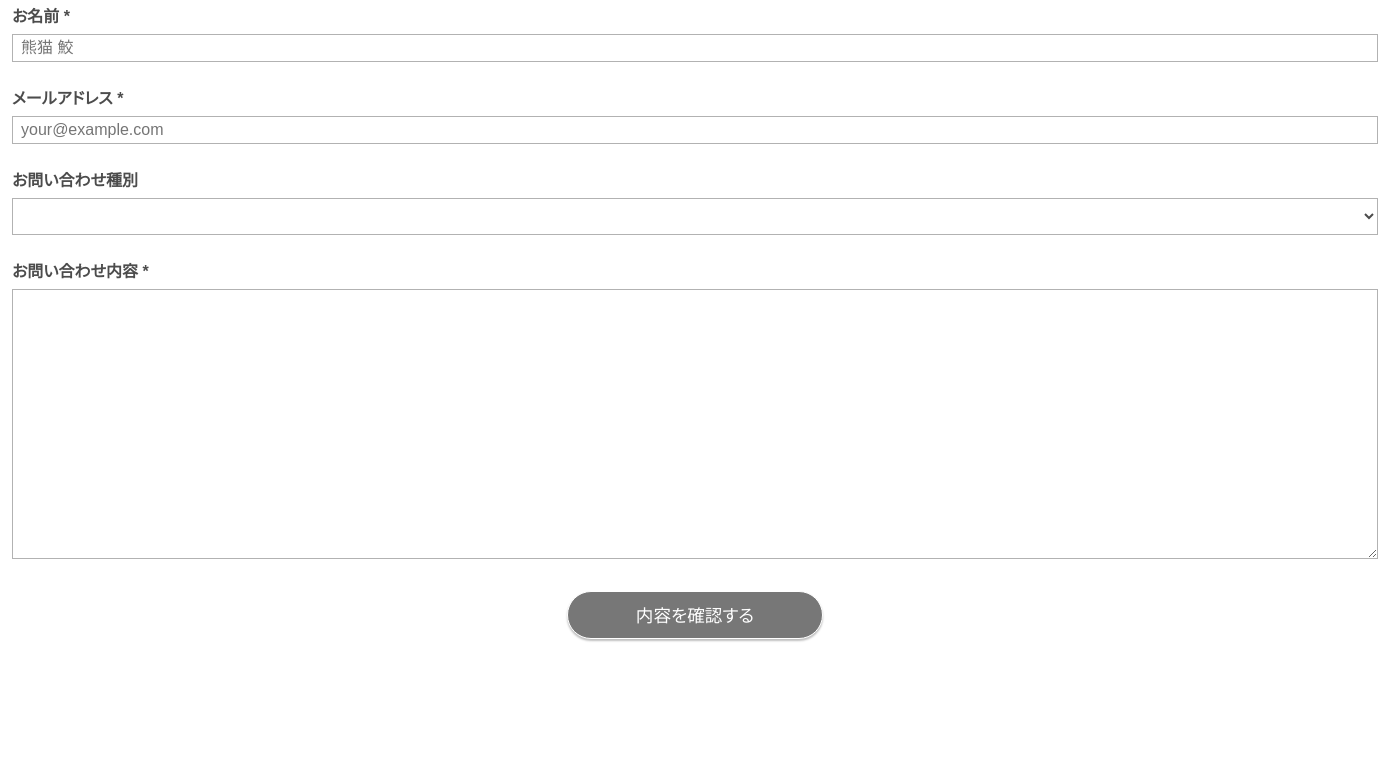
Test: ContactFormContainer › user interaction › should display matching error when email is invalid
Type "email" into the field labelled "メールアドレス *" at coordinates (695, 130), box [12,116,1378,144]
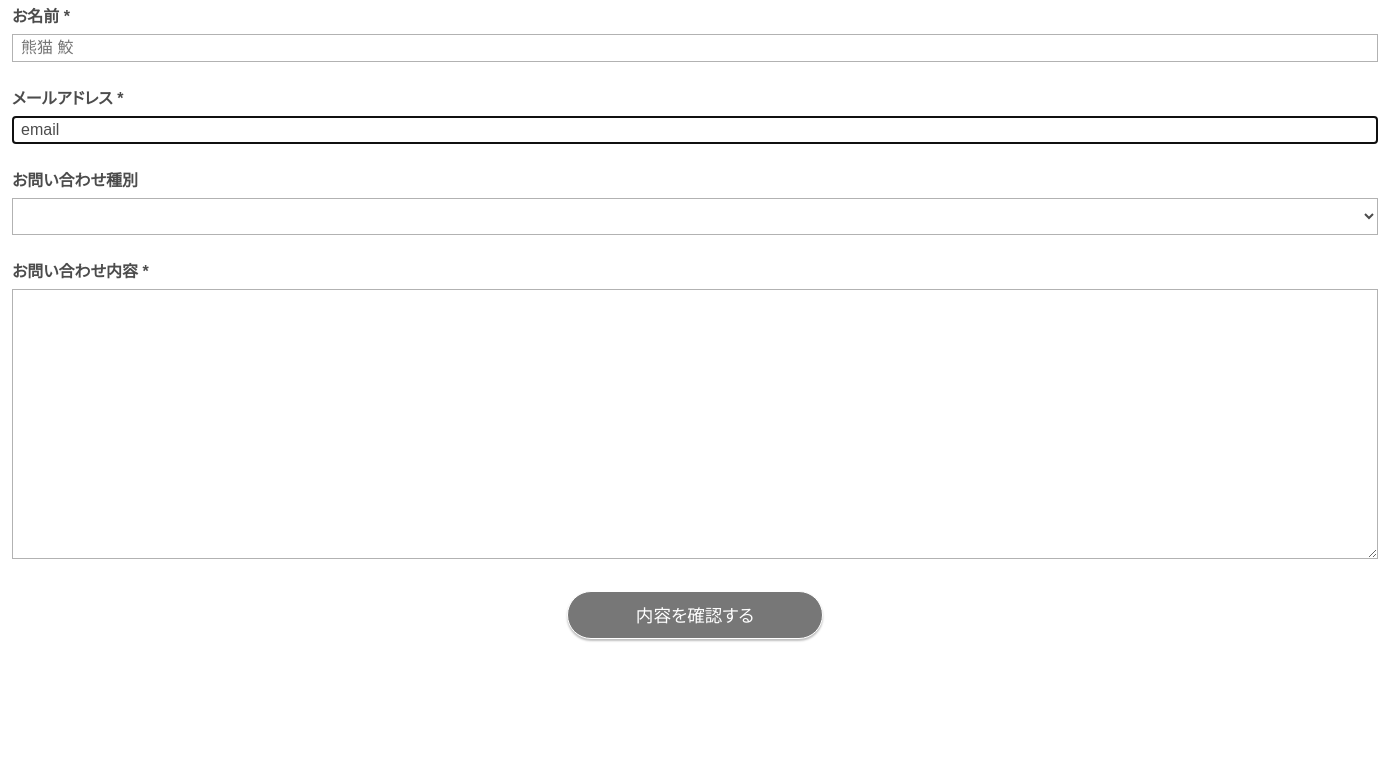
Leave the field labelled "メールアドレス *", box [12,116,1378,144]
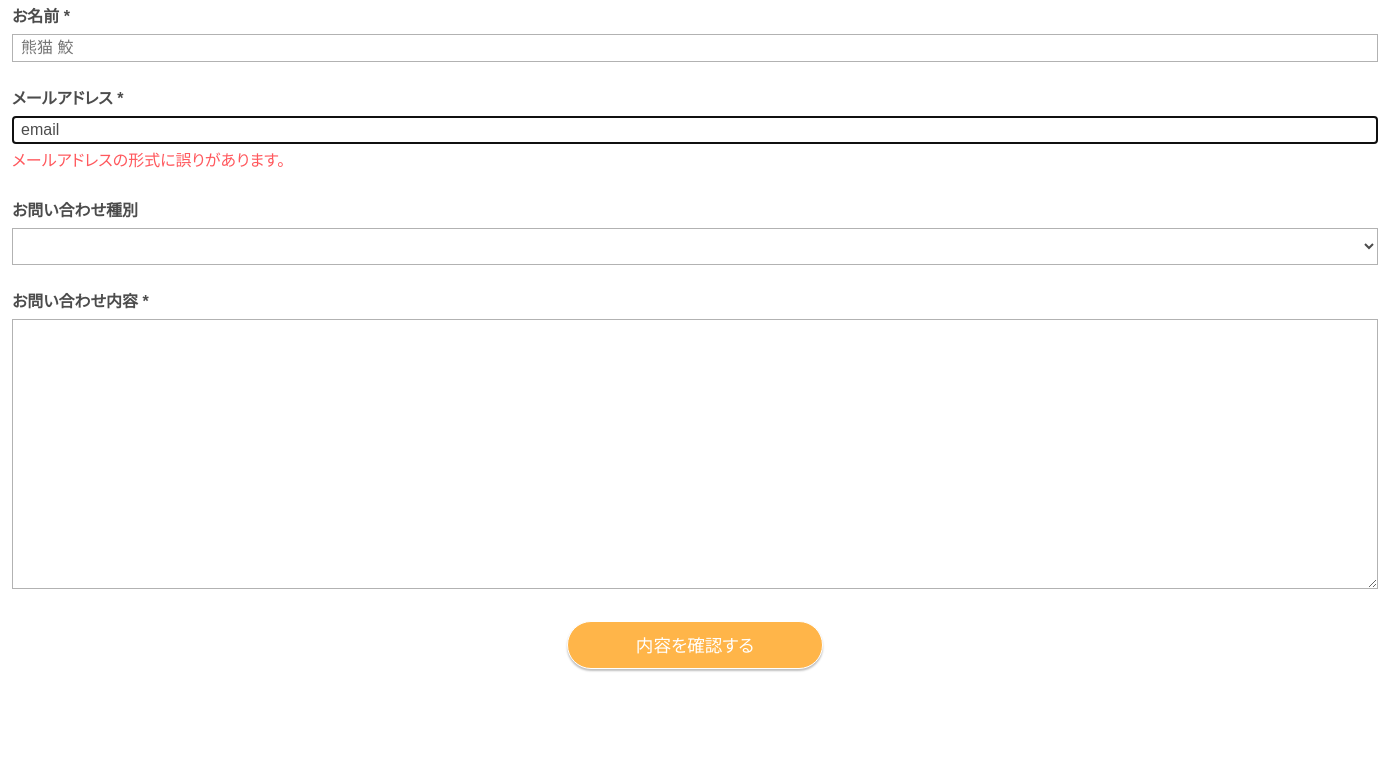
Check: the text "メールアドレスの形式に誤りがあります。" is shown, box [12,152,285,169]
